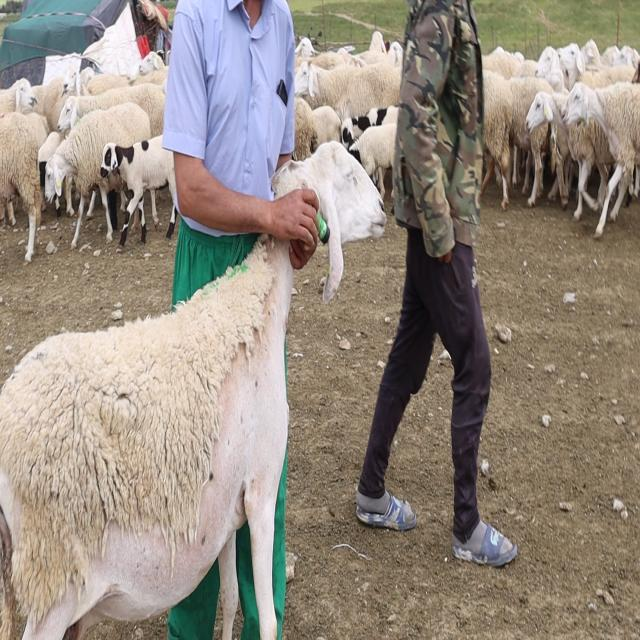Score_2: (0, 239, 293, 639)
